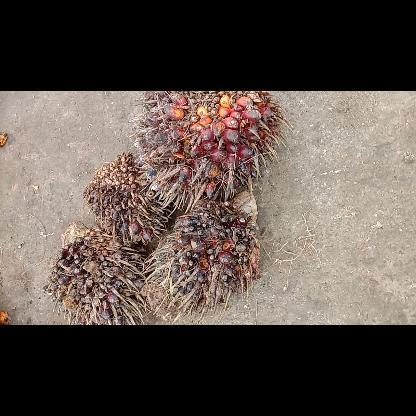TBS abnormal: (146, 190, 260, 318), (43, 222, 146, 324), (83, 151, 169, 243)
TBS masak: (136, 90, 280, 200)
